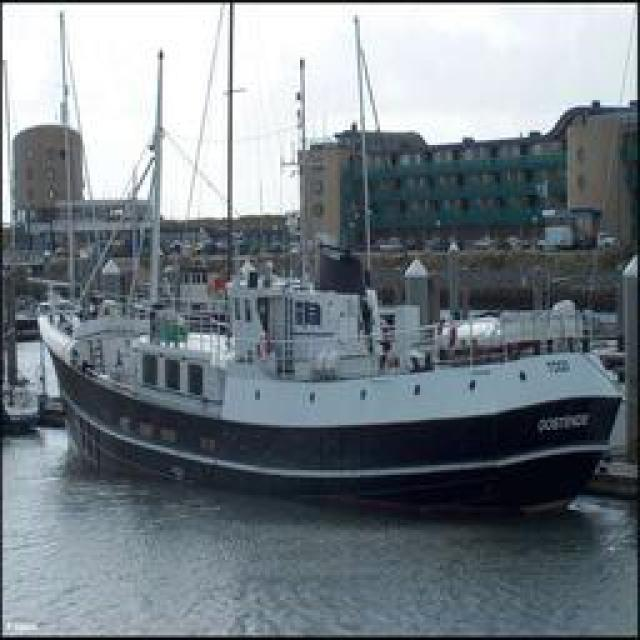ship2: (37, 49, 624, 513)
